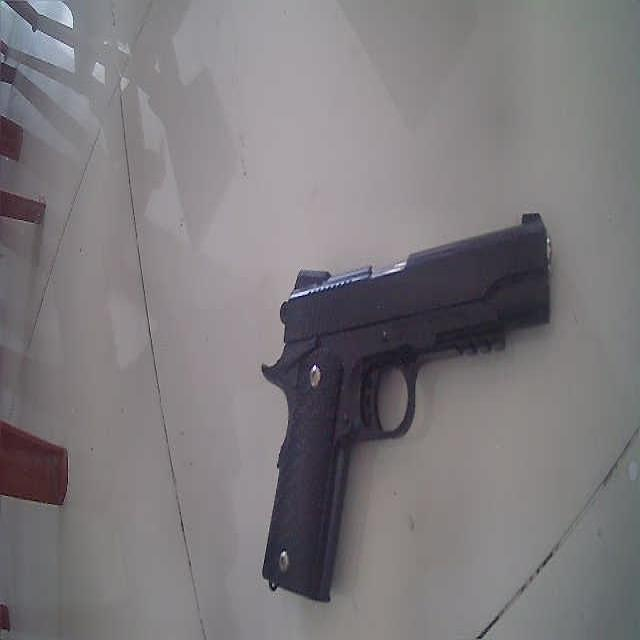pistol: (260, 223, 551, 604)
